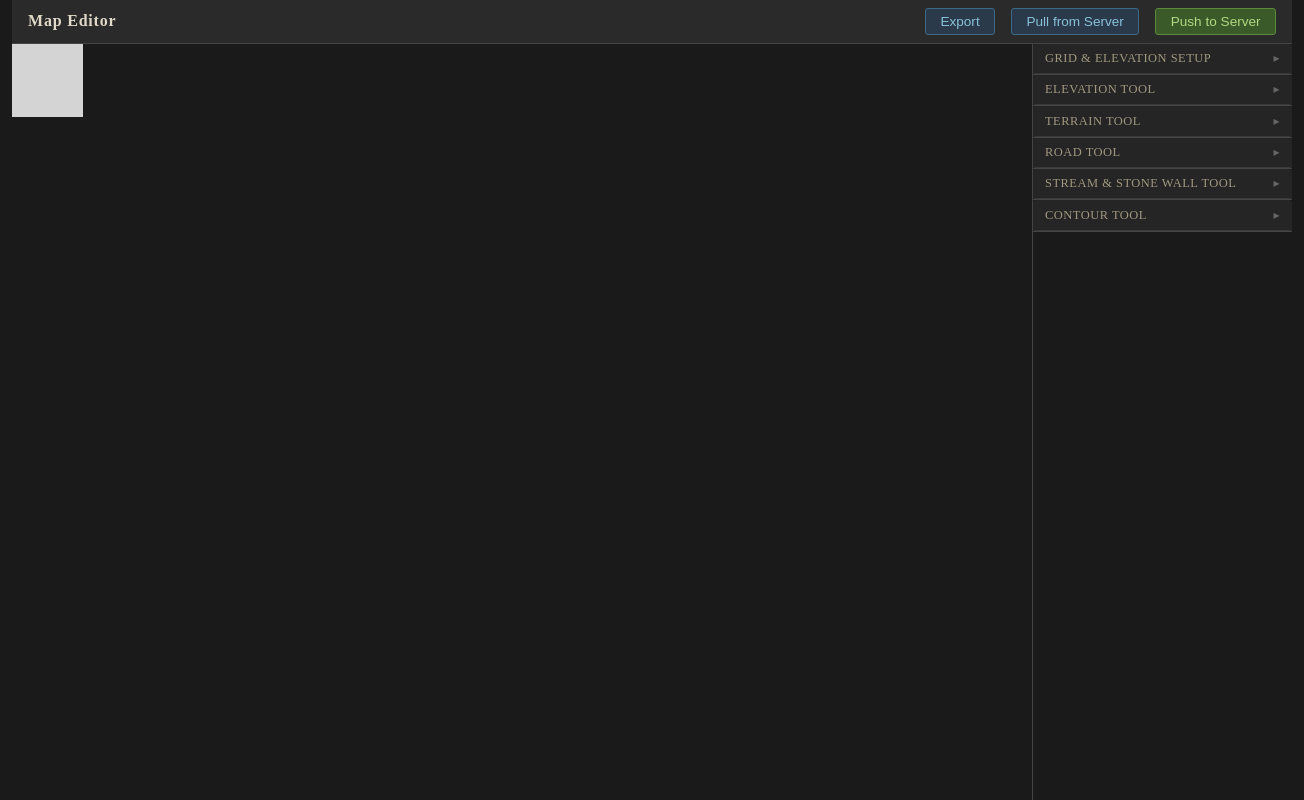
Test: MapEditorView › opening one accordion panel closes any previously open panel
This screenshot has width=1304, height=800.
Expected: the text "Elevation tint" is not shown
# Open Elevation panel
Click the button with class "accordion-header" showing "Elevation Tool ▸".
click(1162, 90)  # box [1033,75,1292,105]
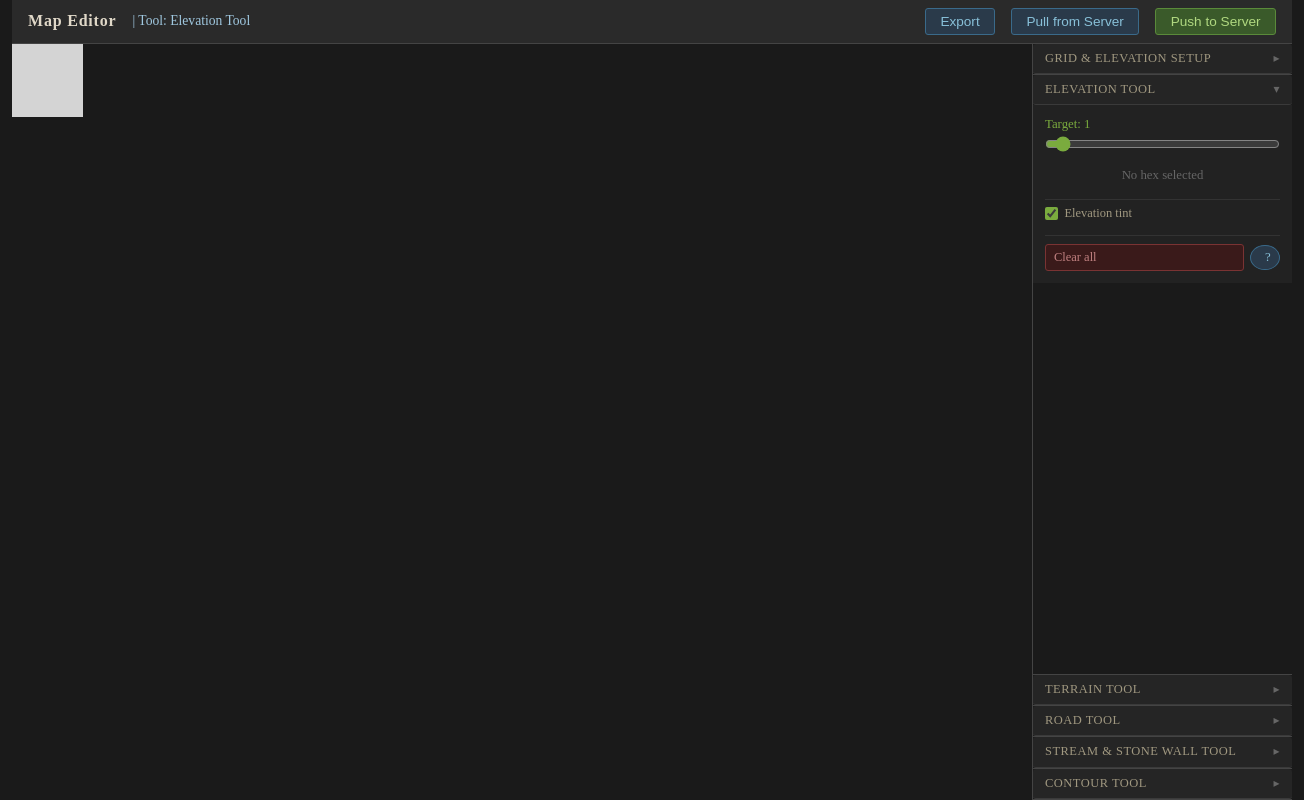
Now the text "Elevation tint" is shown, box [1045,206,1132,220]
# Click Grid & Elevation Setup to open it — Elevation should close
Click the button with class "accordion-header" showing "Grid & Elevation Setup ▸".
click(1162, 59)  # box [1033,44,1292,74]
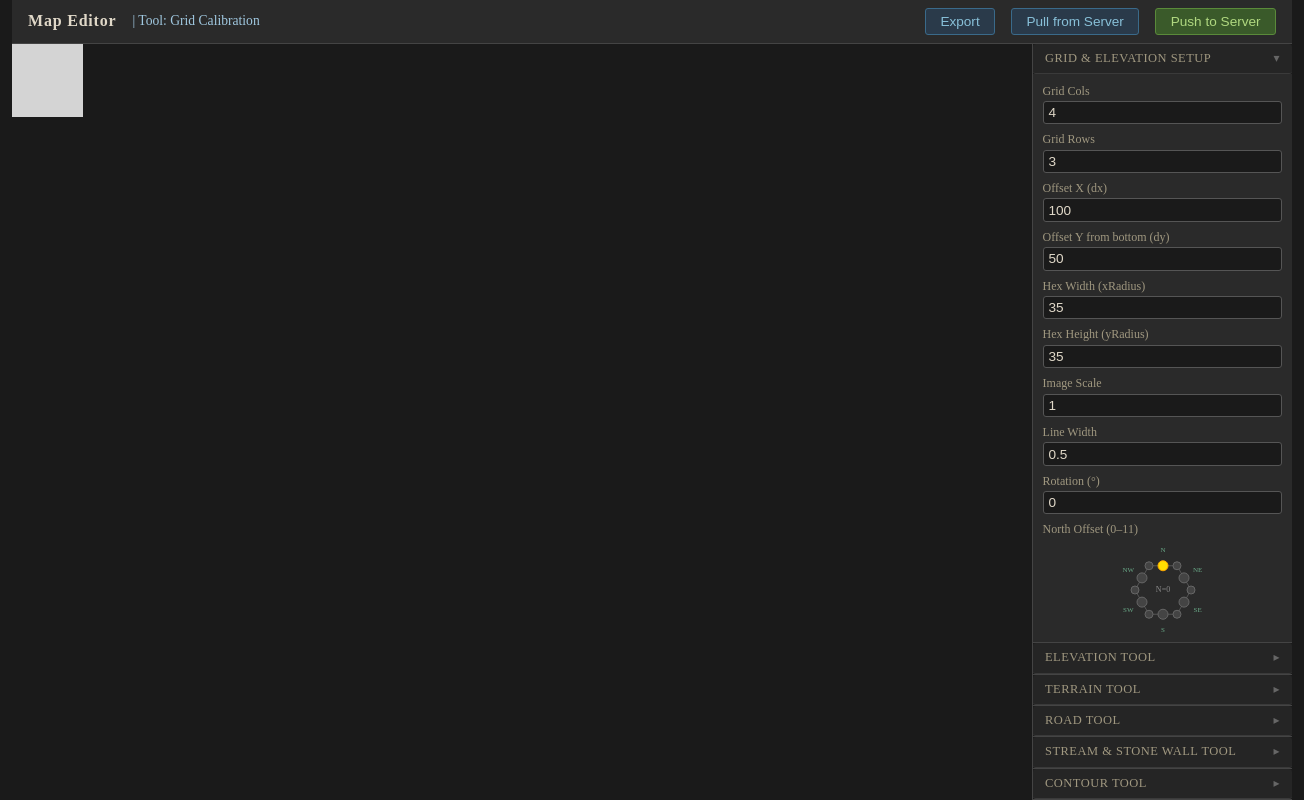
Now the text "Elevation tint" is gone
